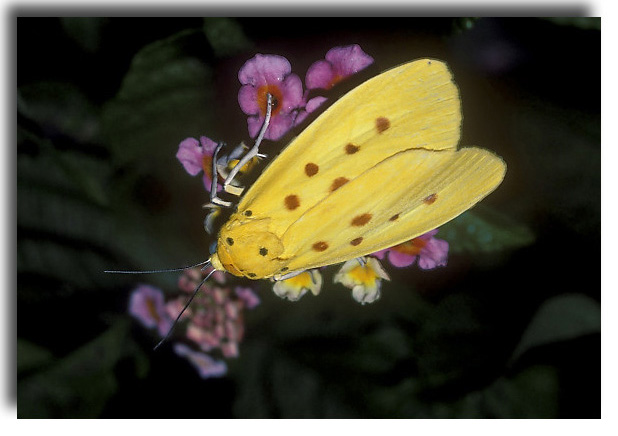Agape chloropyga: (96, 54, 512, 350)
moth: (98, 56, 514, 352)
